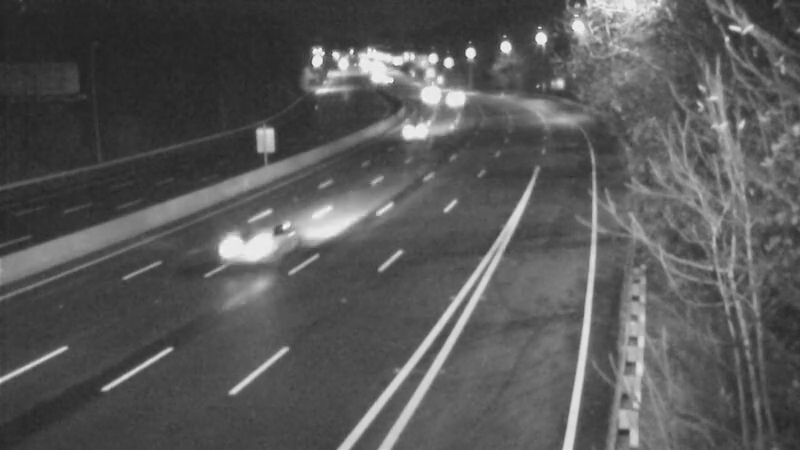vehicle: (217, 197, 297, 277), (397, 71, 447, 121), (429, 69, 479, 119), (386, 103, 436, 153)
